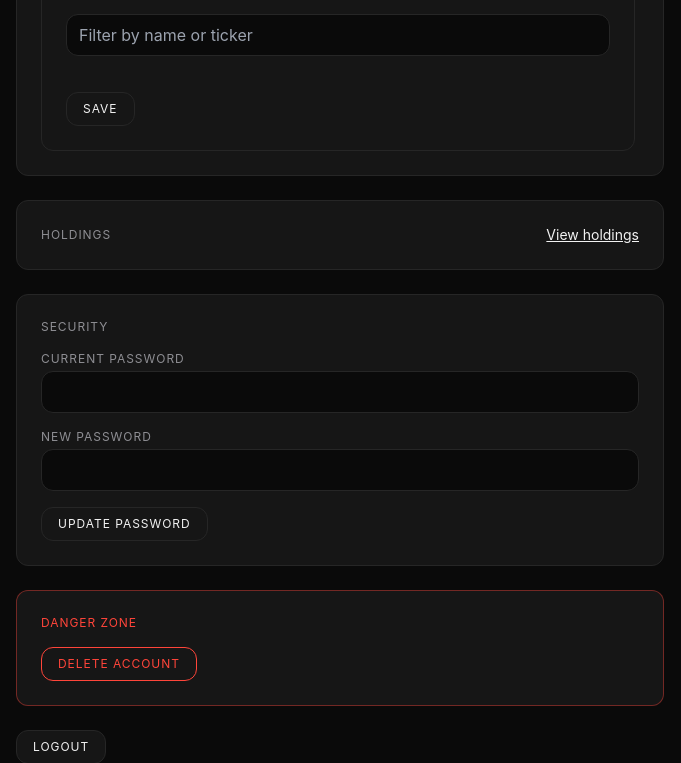
AccountPage › shows an error when password change fails
The image size is (681, 763).
(page scrolled)
Type "wrong" into the password field labelled "Current password". click: (340, 392)
box: [41, 371, 639, 413]
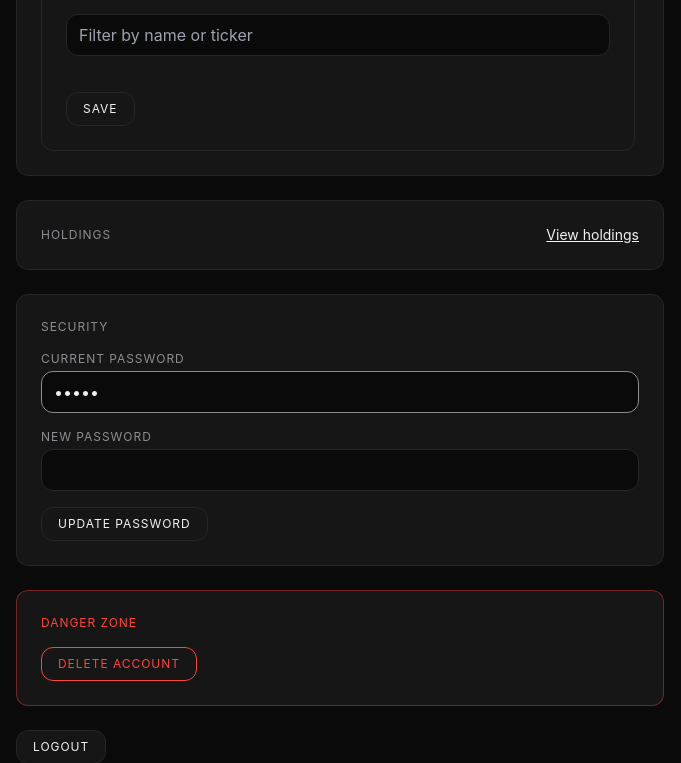
Type "newpass2" into the password field labelled "New password". click: (340, 470)
box: [41, 449, 639, 491]
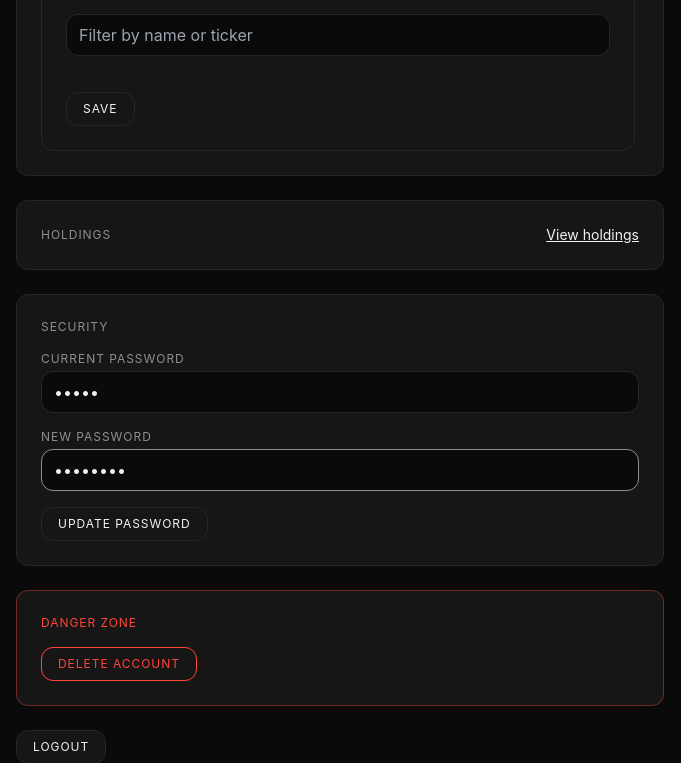
Click the button "Update password". click: (124, 524)
box: [41, 507, 208, 541]
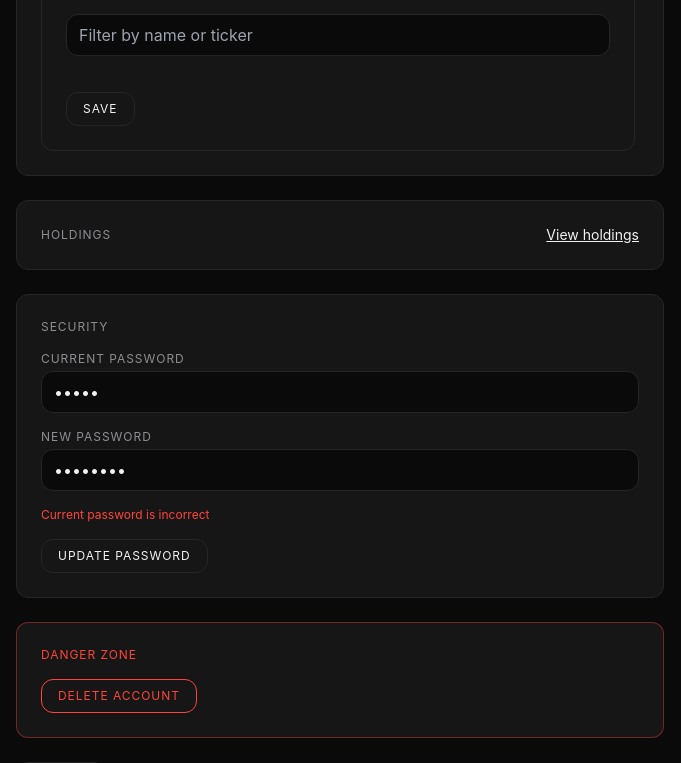
Result: the message reads "Current password is incorrect" at [41, 507, 210, 522]
